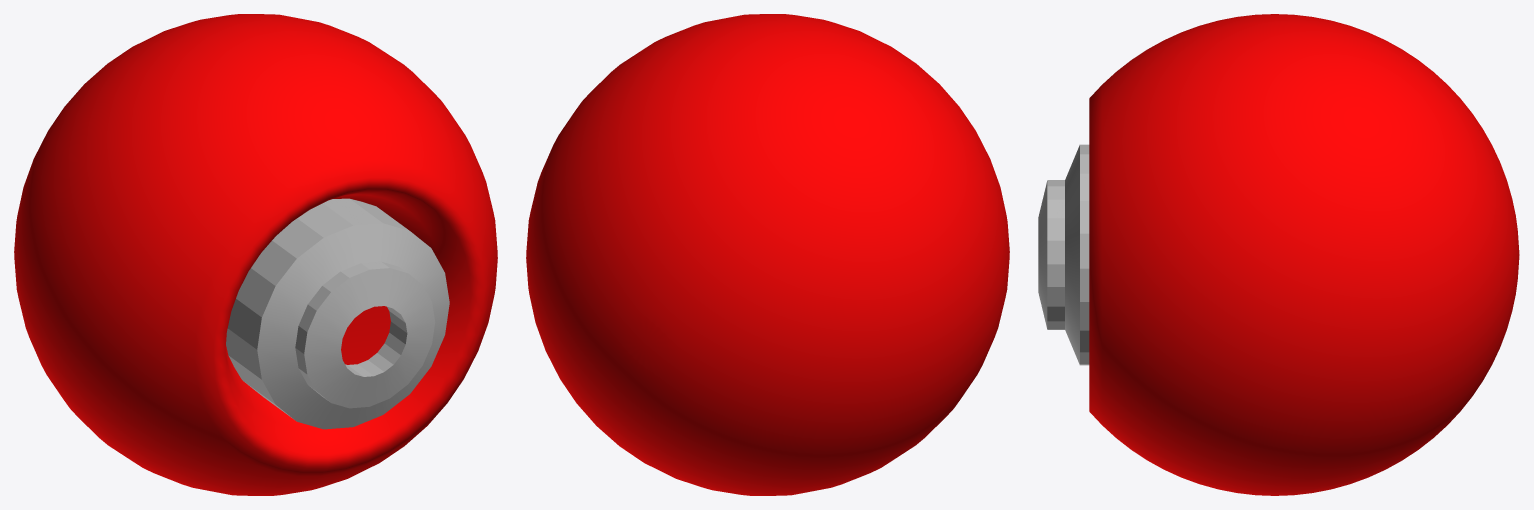
File: Eyebot2 - Copy.fbx
3 views of the same model, side by side, from view 1: azimuth 30°, elevation 25°; view 2: azimuth 150°, elevation 25°; view 3: azimuth 270°, elevation 25° (orthographic).
Visible parts, largest first — view 1: EyebotGlow; view 2: EyebotGlow; view 3: EyebotGlow.
Part boxes in pixels (left/top/right/bottom): EyebotGlow: left=14, top=14, right=497, bottom=495; EyebotGlow: left=526, top=14, right=1009, bottom=495; EyebotGlow: left=1038, top=14, right=1519, bottom=495.
Size of the model in its own units: 98.47 by 98.47 by 98.21.
